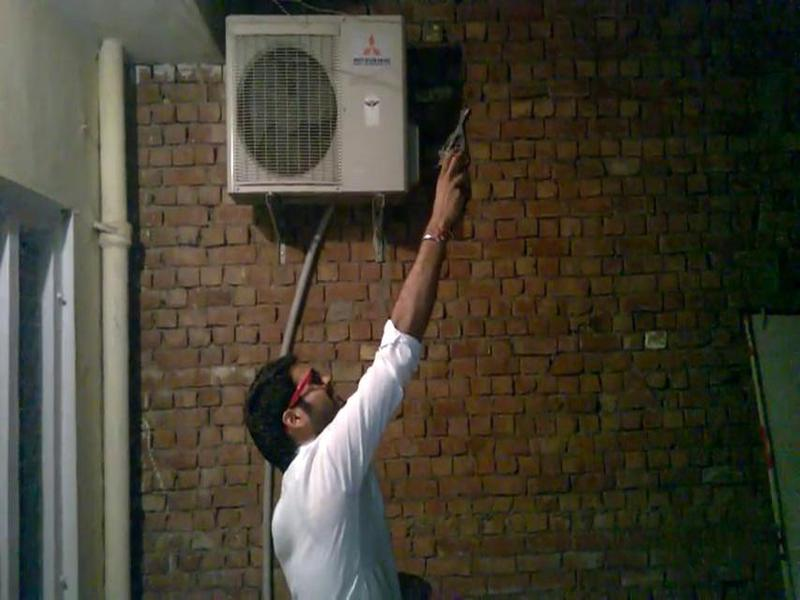Revolver: (418, 106, 495, 221)
